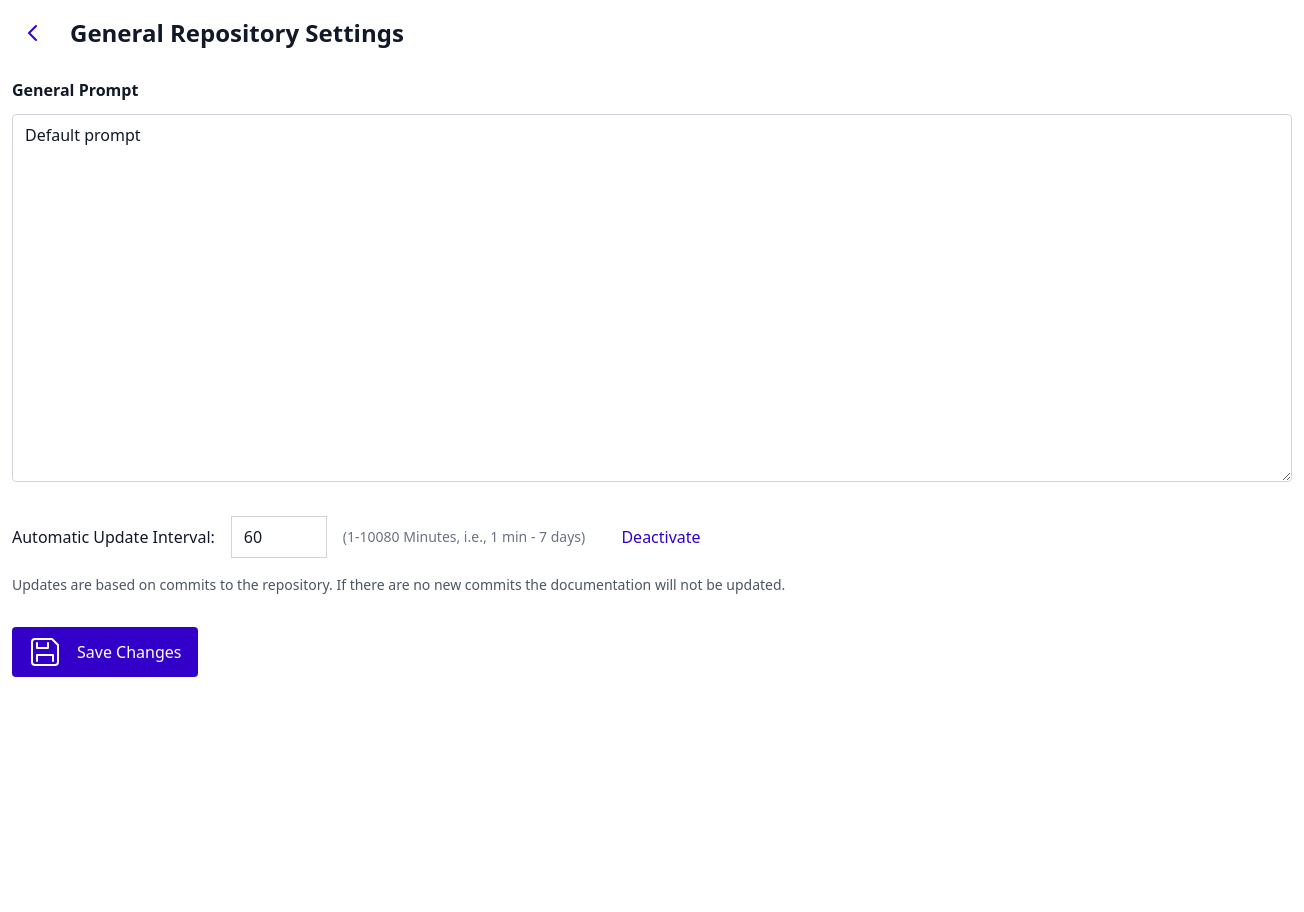
Test: GeneralSetting - unit tests › displays error when save fails
The width and height of the screenshot is (1304, 912).
Expected: the heading "General Prompt" is shown, [12, 79, 138, 101]
Click the button "Save Changes": (105, 652) [12, 627, 198, 677]
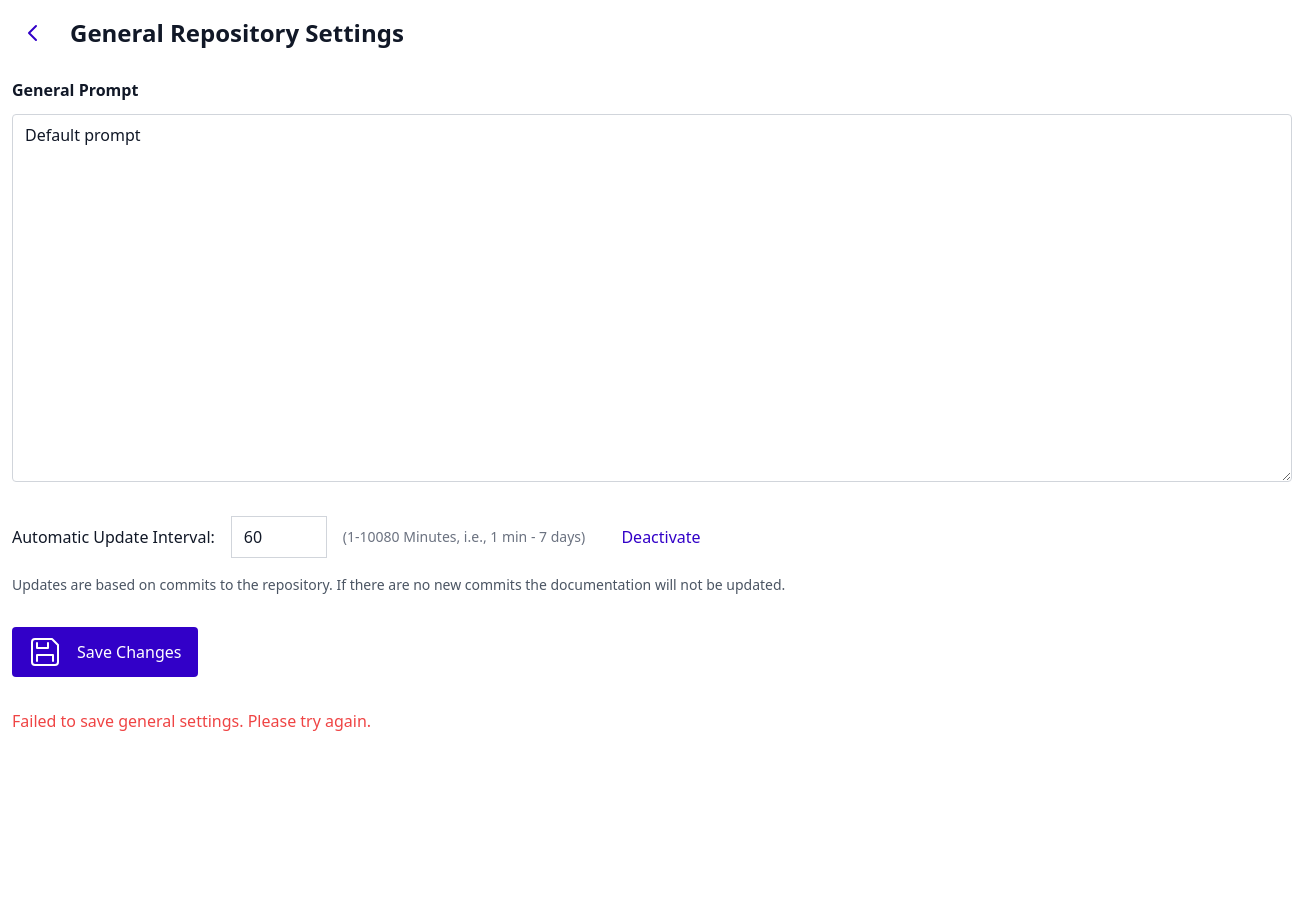
Now the text "Failed to save general settings. Please try again." is shown, box [12, 710, 371, 732]
